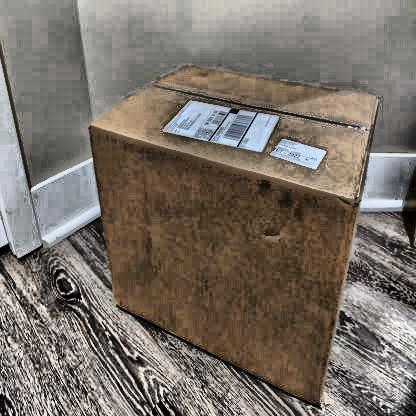no defect parcel: (81, 55, 396, 416)
